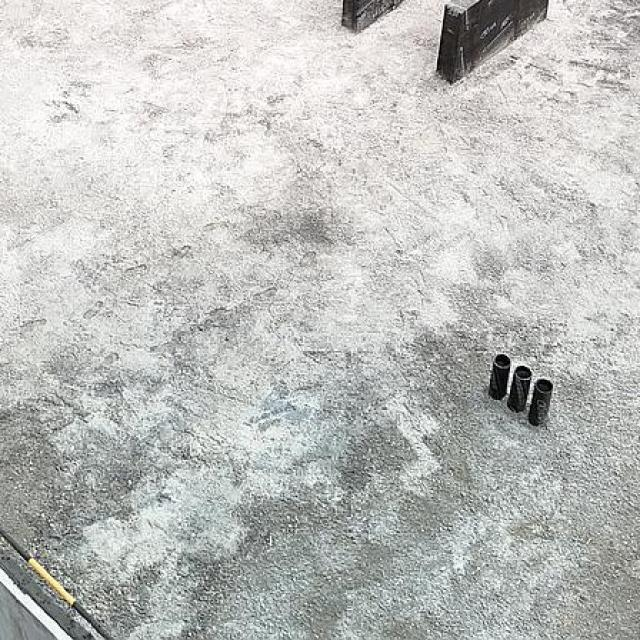edge_guardrail: (0, 523, 119, 640)
